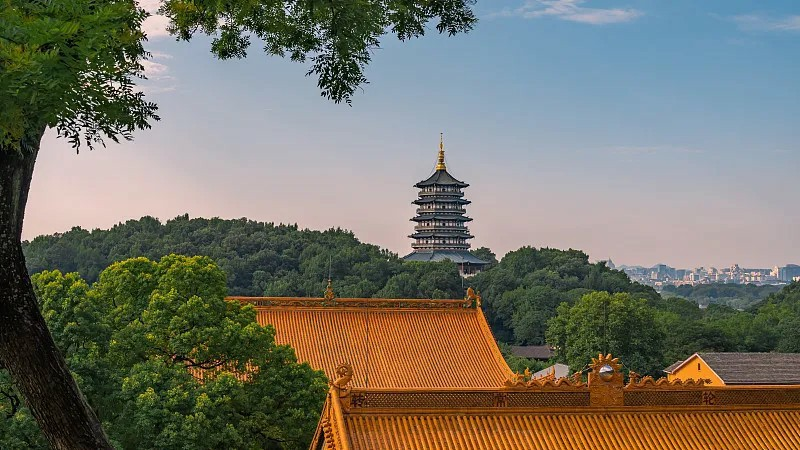Leifeng: (397, 131, 494, 283)
